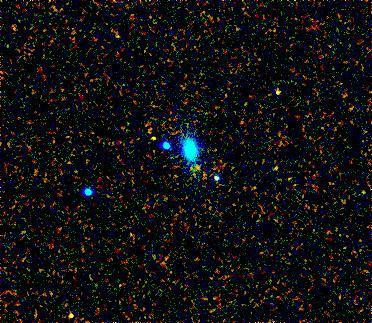star: (138, 123, 168, 153)
